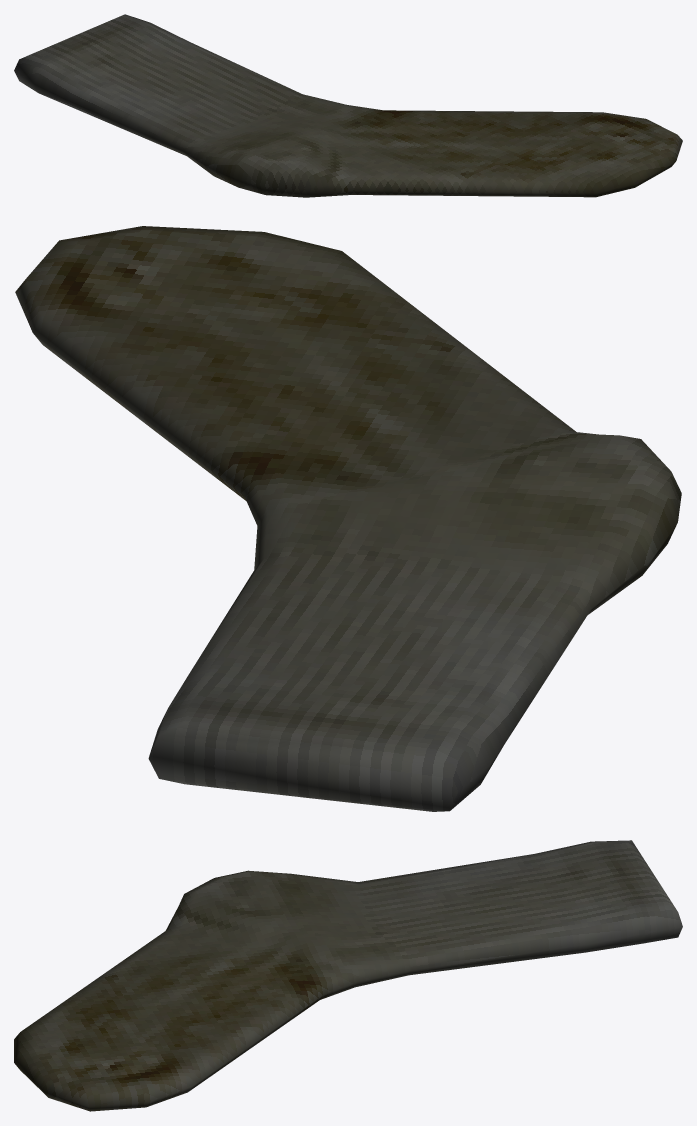
File: dirty_sock_mx_1.glb
3 views of the same model, one above another, from view 1: azimuth 30°, elevation 25°; view 2: azimuth 150°, elevation 25°; view 3: azimuth 270°, elevation 25° (orthographic). The views are drawn at different scales.
Visible parts, largest first — view 1: dirty_sock_mx_1; view 2: dirty_sock_mx_1; view 3: dirty_sock_mx_1.
Part boxes in pixels (left/top/right/bottom): dirty_sock_mx_1: left=14, top=14, right=682, bottom=197; dirty_sock_mx_1: left=15, top=226, right=681, bottom=811; dirty_sock_mx_1: left=14, top=840, right=682, bottom=1111.
Bounding box in the file's own units: 0.2861 × 0.02 × 0.325.
1 material, 1 textured.
